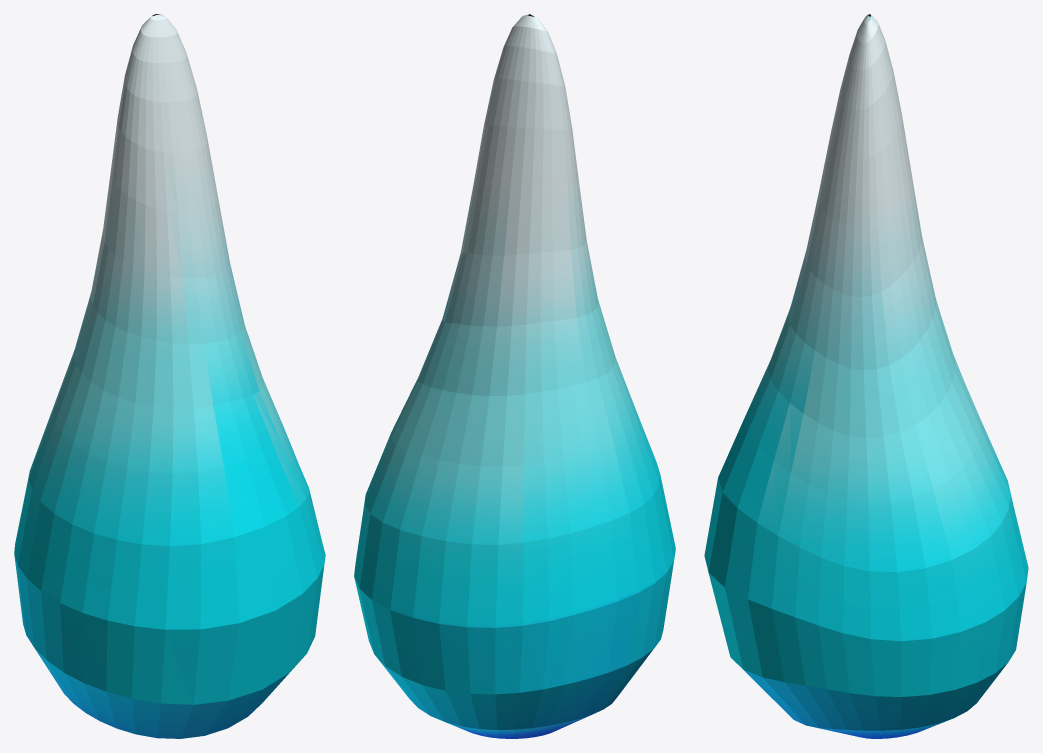
The model's file is M_Castle_Drop.fbx.
The picture shows the model from 3 angles, left to right: view 1: azimuth 30°, elevation 25°; view 2: azimuth 150°, elevation 25°; view 3: azimuth 270°, elevation 25°; orthographic projection.
Parts seen in each view (by area): view 1: Sphere; view 2: Sphere; view 3: Sphere.
Boxes of the visible parts, left/top/right/bottom form: Sphere: left=14, top=14, right=325, bottom=738; Sphere: left=354, top=14, right=675, bottom=738; Sphere: left=704, top=14, right=1028, bottom=738.
Bounding box in the file's own units: 135 × 336 × 141.
